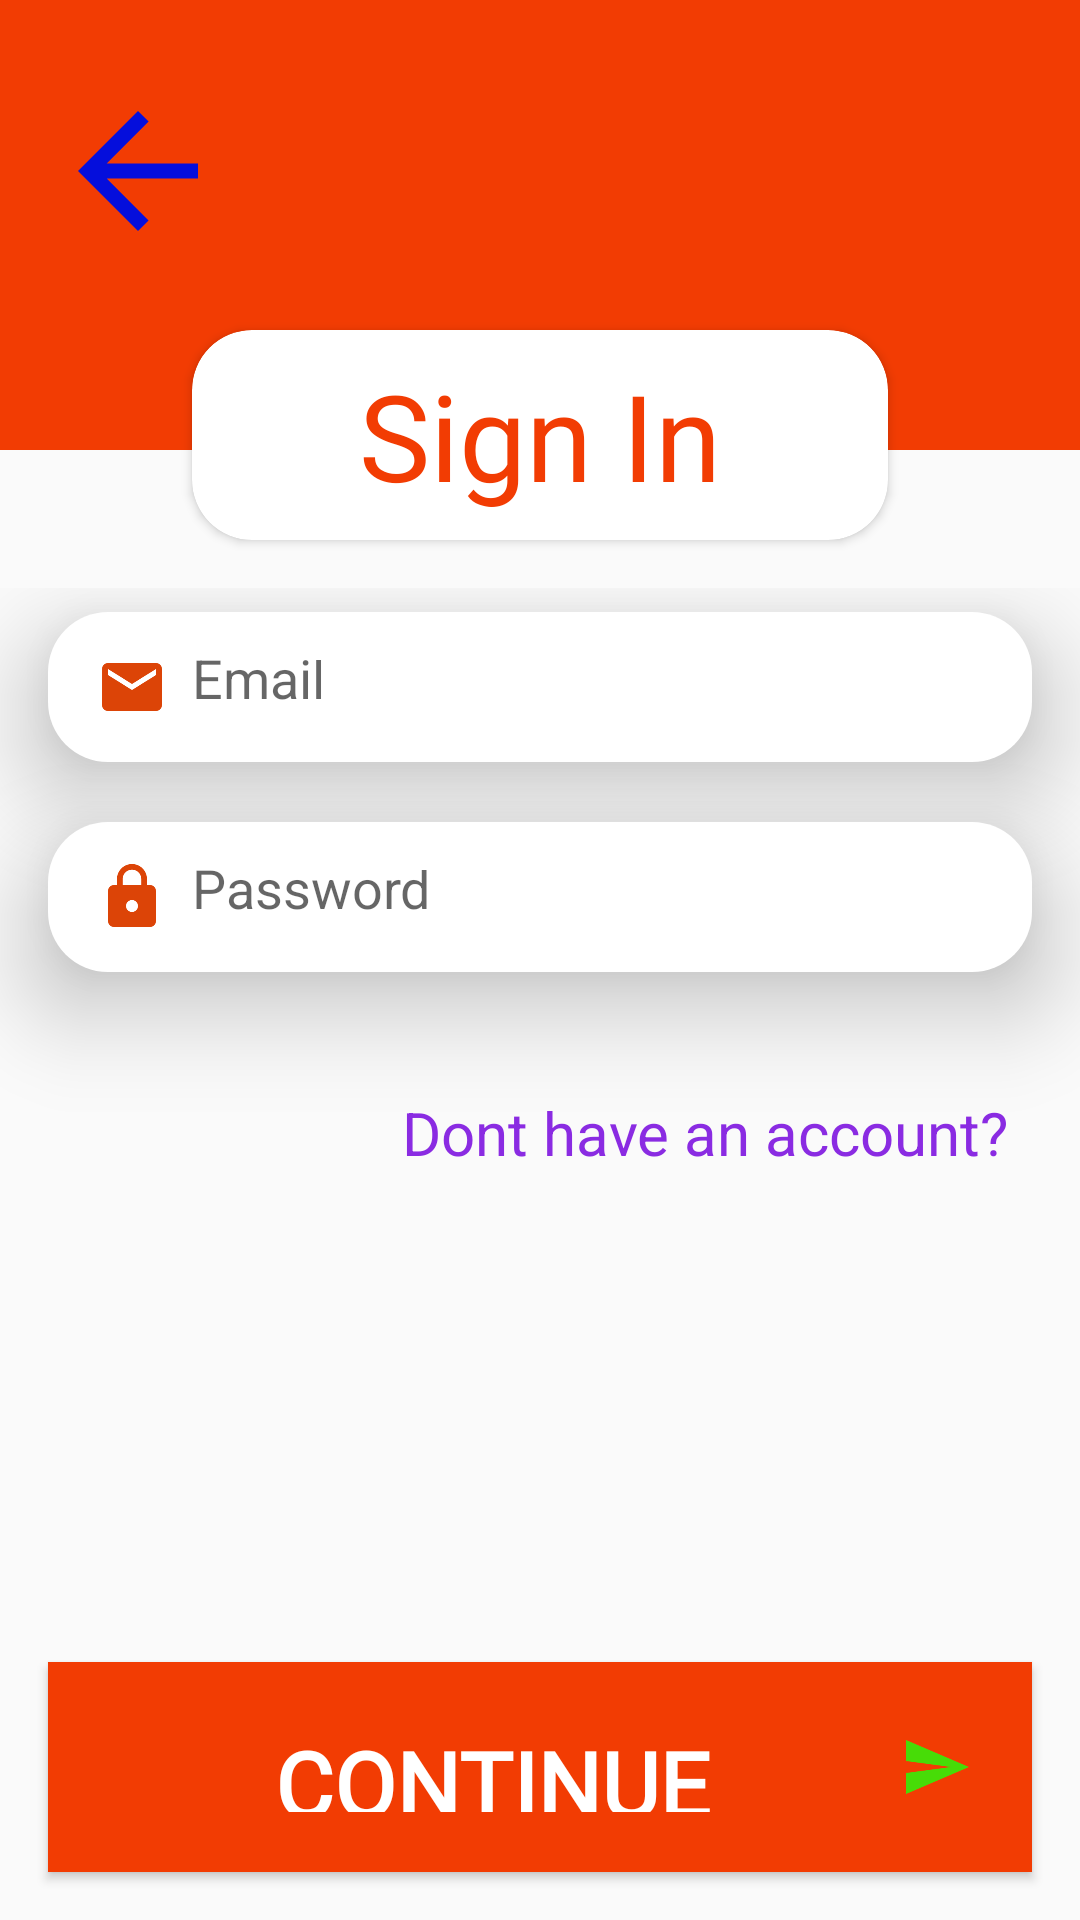

Icon bounding boxes for this 1080x1920 phone screenshot, format bbox(x1, y1, x2, y2):
back: bbox(78, 111, 198, 231)
